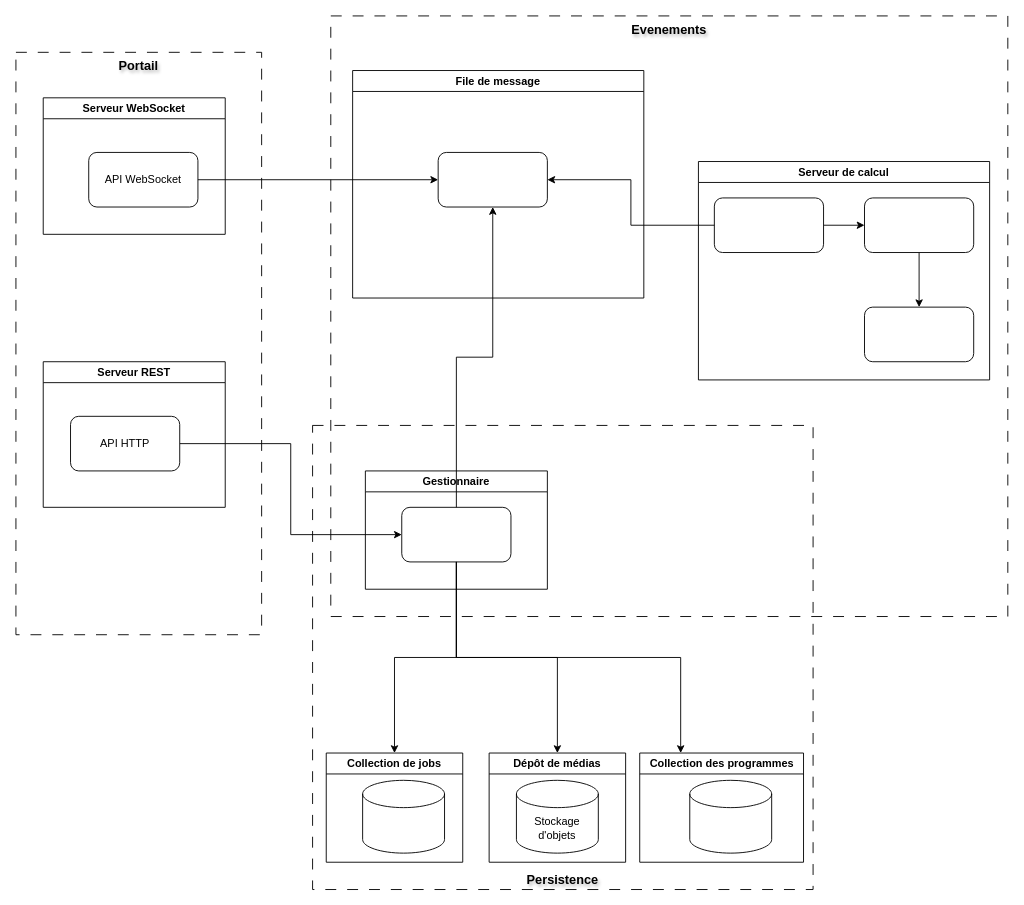
Image size: 1024x905. Some labels were removed from this diagram. Each missing label, with the centre of its shape:
Base de données: pixel 403 816
Controlleur: pixel 456 534
Dépendances: pixel 919 334
File: pixel 492 179
Manifestes des Programmes: pixel 730 816
Moniteur: pixel 768 225
Run: pixel 919 225
